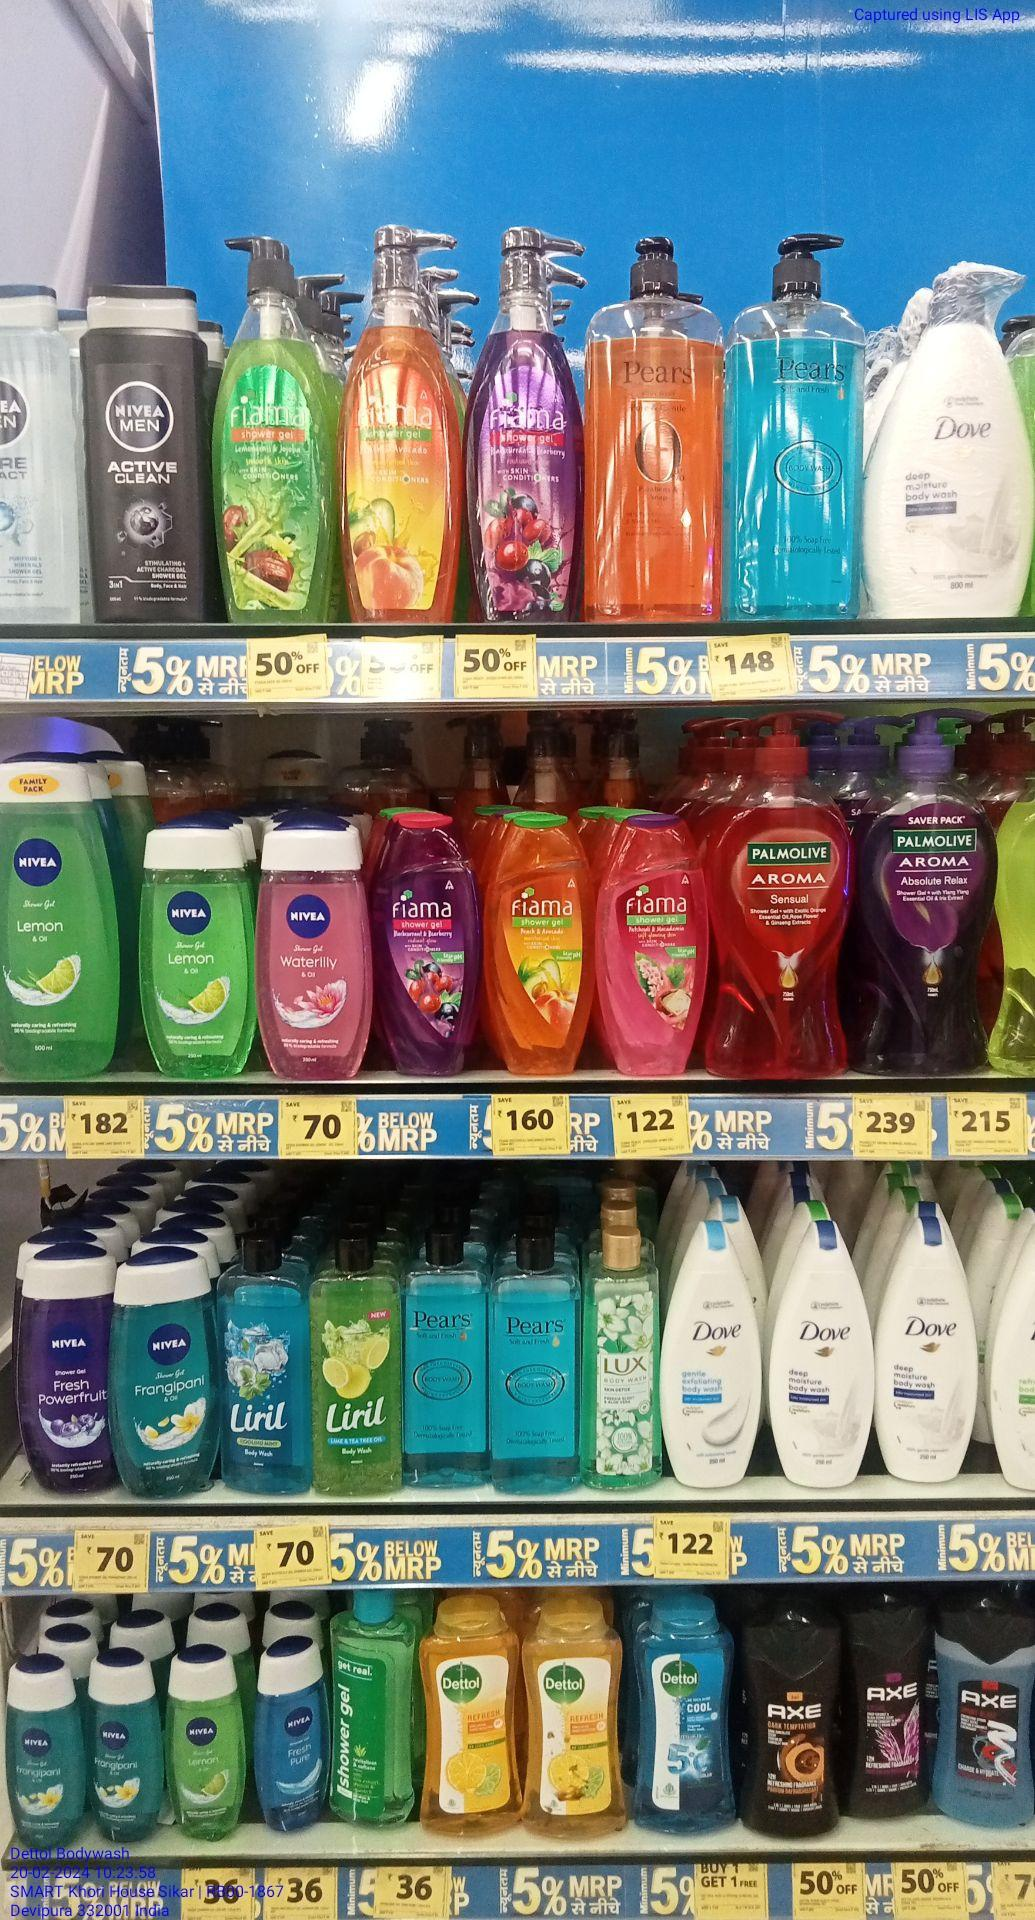Dettol_Bodywash_Cool: (633, 1591, 733, 1833)
Dettol_Bodywash_Refresh: (419, 1601, 521, 1837), (528, 1595, 623, 1842)
Dove_Deep_Moisture_Body_Wash_250ML: (770, 1223, 877, 1491), (882, 1214, 976, 1486)
Dove_Gentle_Exfoliating_Body_Wash_250ML: (665, 1221, 765, 1486)
Fiama_Shower_Gel_Patchouli_and_Macadamia_250ML: (603, 815, 704, 1070)
Fiama_Shower_Gel_Peach_and_Avocado_250ML: (482, 810, 598, 1071)
Liril_Cooling_Mint_Body_Wash_250ML: (224, 1232, 312, 1493)
Liril_Lime_and_Tea_Tree_Oil_Body_Wash_250ML: (317, 1224, 404, 1494)
Lux_Body_Wash_Skin_Detox_Freesia_Scent_and_Alove_Vera_245ML: (586, 1224, 662, 1491)
Nivea_Shower_Gel_Frangipani_and_Oil_250ML: (116, 1270, 221, 1497), (9, 1654, 83, 1851), (89, 1658, 163, 1851)
Nivea_Shower_Gel_Fresh_Powerfruit_250ML: (14, 1263, 110, 1492)
Nivea_Shower_Gel_Lemon_and_Oil_250ML: (4, 761, 121, 1083), (141, 827, 252, 1087), (170, 1656, 247, 1844)
Nivea_Shower_Gel_Waterlily_and_Oil_250ML: (259, 827, 373, 1085)
Pears_Pure_Glycerin_and_Mint_Extracts_Body_Wash_250ML: (407, 1224, 493, 1486), (497, 1229, 580, 1493)
